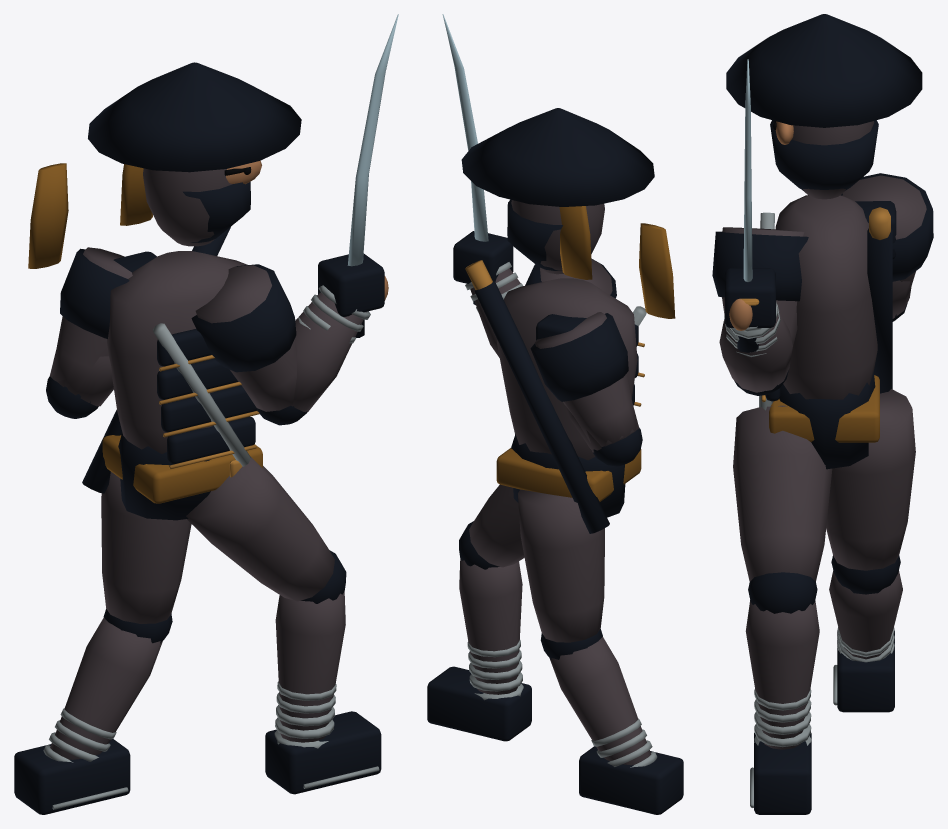
The model's file is warden.glb.
The picture shows the model from 3 angles, left to right: view 1: azimuth 30°, elevation 25°; view 2: azimuth 150°, elevation 25°; view 3: azimuth 270°, elevation 25°; orthographic projection. The views are drawn at different scales.
Visible parts, largest first — view 1: warden__torso_mesh, warden__head_mesh, warden__thighF_mesh, warden__upperArmF_mesh, warden__thighB_mesh, warden__shinF_mesh, warden__shinB_mesh, warden__upperArmB_mesh, warden__footF_mesh, warden__footB_mesh, warden__forearmF_mesh, warden__scarfB_mesh (+5 smaller); view 2: warden__torso_mesh, warden__head_mesh, warden__thighB_mesh, warden__upperArmB_mesh, warden__shinF_mesh, warden__shinB_mesh, warden__footF_mesh, warden__footB_mesh, warden__thighF_mesh, warden__scarfB_mesh, warden__scarfA_mesh, warden__handF_mesh (+5 smaller); view 3: warden__torso_mesh, warden__head_mesh, warden__thighF_mesh, warden__thighB_mesh, warden__shinF_mesh, warden__upperArmF_mesh, warden__upperArmB_mesh, warden__shinB_mesh, warden__footF_mesh, warden__forearmF_mesh, warden__pelvis_mesh, warden__footB_mesh (+4 smaller).
Boxes of the visible parts, bbox=[...] form: warden__torso_mesh: bbox=[82, 227, 262, 503]; warden__head_mesh: bbox=[88, 62, 301, 246]; warden__thighF_mesh: bbox=[186, 456, 346, 603]; warden__upperArmF_mesh: bbox=[191, 264, 307, 425]; warden__thighB_mesh: bbox=[101, 472, 191, 643]; warden__shinF_mesh: bbox=[274, 591, 345, 748]; warden__shinB_mesh: bbox=[43, 617, 162, 762]; warden__upperArmB_mesh: bbox=[46, 247, 132, 418]; warden__footF_mesh: bbox=[265, 711, 381, 794]; warden__footB_mesh: bbox=[14, 739, 130, 814]; warden__forearmF_mesh: bbox=[291, 285, 370, 412]; warden__scarfB_mesh: bbox=[28, 163, 68, 268]; warden__torso_mesh: bbox=[465, 260, 646, 533]; warden__head_mesh: bbox=[461, 108, 654, 274]; warden__thighB_mesh: bbox=[518, 489, 604, 659]; warden__upperArmB_mesh: bbox=[530, 312, 642, 466]; warden__shinF_mesh: bbox=[459, 558, 523, 700]; warden__shinB_mesh: bbox=[549, 636, 657, 767]; warden__footF_mesh: bbox=[427, 666, 531, 741]; warden__footB_mesh: bbox=[579, 746, 683, 814]; warden__thighF_mesh: bbox=[459, 484, 524, 569]; warden__scarfB_mesh: bbox=[639, 223, 675, 318]; warden__scarfA_mesh: bbox=[559, 206, 592, 279]; warden__handF_mesh: bbox=[453, 231, 513, 283]; warden__torso_mesh: bbox=[759, 195, 892, 442]; warden__head_mesh: bbox=[726, 14, 922, 199]; warden__thighF_mesh: bbox=[733, 405, 832, 613]; warden__thighB_mesh: bbox=[826, 389, 915, 594]; warden__shinF_mesh: bbox=[745, 600, 819, 749]; warden__upperArmF_mesh: bbox=[712, 227, 808, 395]; warden__upperArmB_mesh: bbox=[840, 173, 933, 321]; warden__shinB_mesh: bbox=[829, 571, 902, 662]; warden__footF_mesh: bbox=[750, 732, 811, 814]; warden__forearmF_mesh: bbox=[719, 301, 792, 392]; warden__pelvis_mesh: bbox=[779, 371, 875, 469]; warden__footB_mesh: bbox=[833, 630, 894, 712].
Size of the model in its own units: 1.57 by 3.64 by 0.9552.
